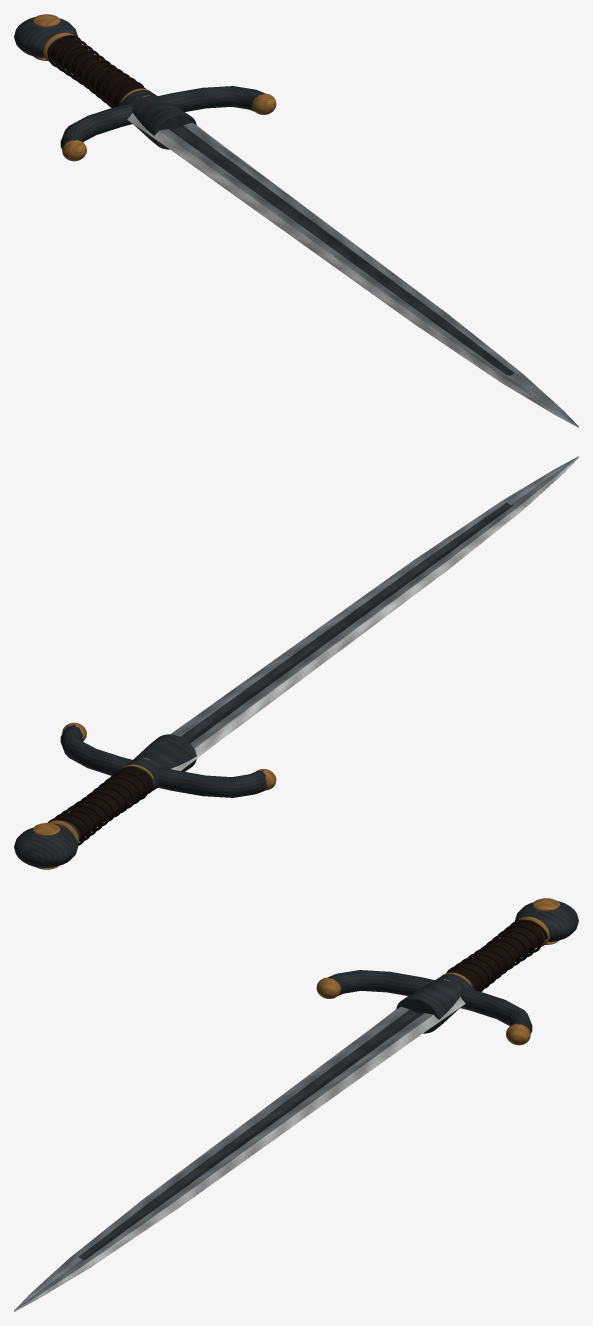
Rendered from espada.glb.
3 renders of one model, top to bottom at view 1: azimuth 30°, elevation 25°; view 2: azimuth 150°, elevation 25°; view 3: azimuth 330°, elevation 25°, orthographic.
Visible parts, largest first — view 1: Hoja forjada y vaciada, Empuñadura oval, Gavilán.001, Cordón encerado del puño, Gavilán, Pomo disco forjado; view 2: Hoja forjada y vaciada, Empuñadura oval, Gavilán, Pomo disco forjado, Cordón encerado del puño, Gavilán.001; view 3: Hoja forjada y vaciada, Empuñadura oval, Gavilán, Cordón encerado del puño, Gavilán.001, Pomo disco forjado.
Boxes of the visible parts, x1=… form: Hoja forjada y vaciada: x1=127, y1=113, x2=578, y2=427; Empuñadura oval: x1=47, y1=32, x2=196, y2=149; Gavilán.001: x1=158, y1=86, x2=265, y2=111; Cordón encerado del puño: x1=48, y1=35, x2=143, y2=107; Gavilán: x1=60, y1=103, x2=132, y2=149; Pomo disco forjado: x1=14, y1=17, x2=77, y2=58; Hoja forjada y vaciada: x1=171, y1=456, x2=578, y2=770; Empuñadura oval: x1=55, y1=734, x2=196, y2=841; Gavilán: x1=157, y1=767, x2=266, y2=797; Pomo disco forjado: x1=14, y1=827, x2=78, y2=867; Cordón encerado del puño: x1=47, y1=771, x2=148, y2=845; Gavilán.001: x1=60, y1=724, x2=132, y2=775; Hoja forjada y vaciada: x1=14, y1=997, x2=465, y2=1311; Empuñadura oval: x1=396, y1=916, x2=545, y2=1033; Gavilán: x1=327, y1=970, x2=434, y2=995; Cordón encerado del puño: x1=446, y1=919, x2=547, y2=991; Gavilán.001: x1=460, y1=987, x2=532, y2=1033; Pomo disco forjado: x1=515, y1=901, x2=578, y2=942.
Size of the model in its own units: 0.23 by 0.041 by 1.03.
Materials: 5 (5 with a texture image).
